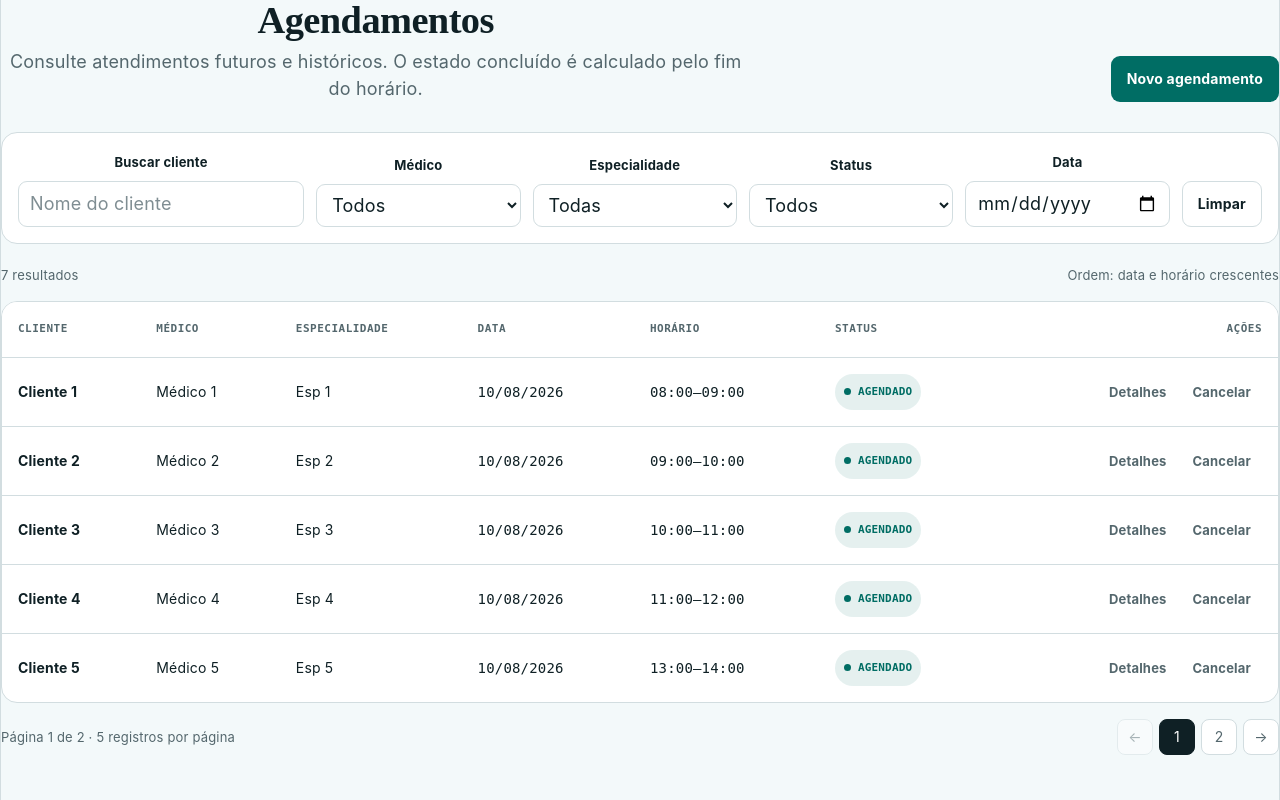
AgendamentosPage — cancelamento (FE3) › fluxo MEDICO: abre modal, seleciona origem, confirma → fecha modal, toast com msg correta
Expected: the text "Cliente 1" is shown, top-left (18, 382), bottom-right (77, 400)
Step 1. Click the button "Cancelar" in the row of "Cliente 1" → x=1222, y=392, box top-left (1182, 372), bottom-right (1262, 412)
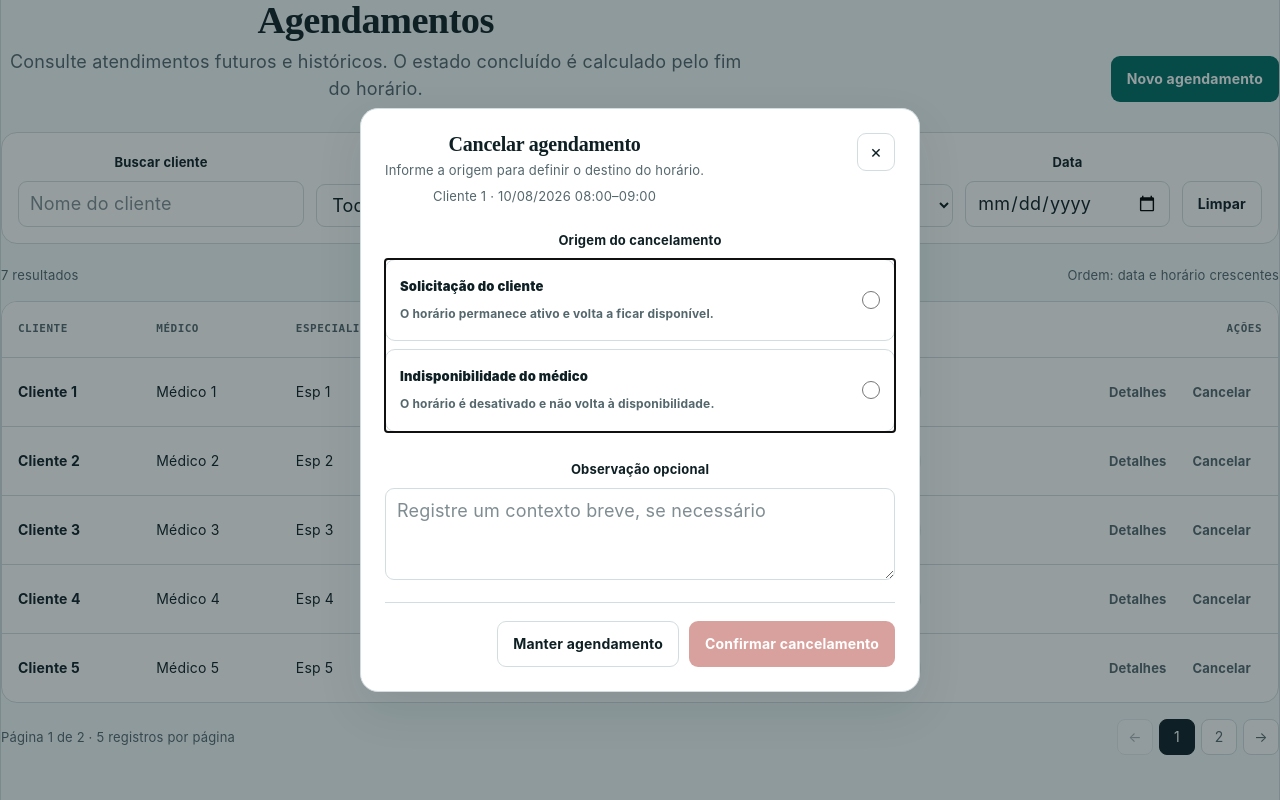
Step 2. Click the radio button labelled "Indisponibilidade do médico" → x=871, y=390, box top-left (862, 381), bottom-right (880, 399)
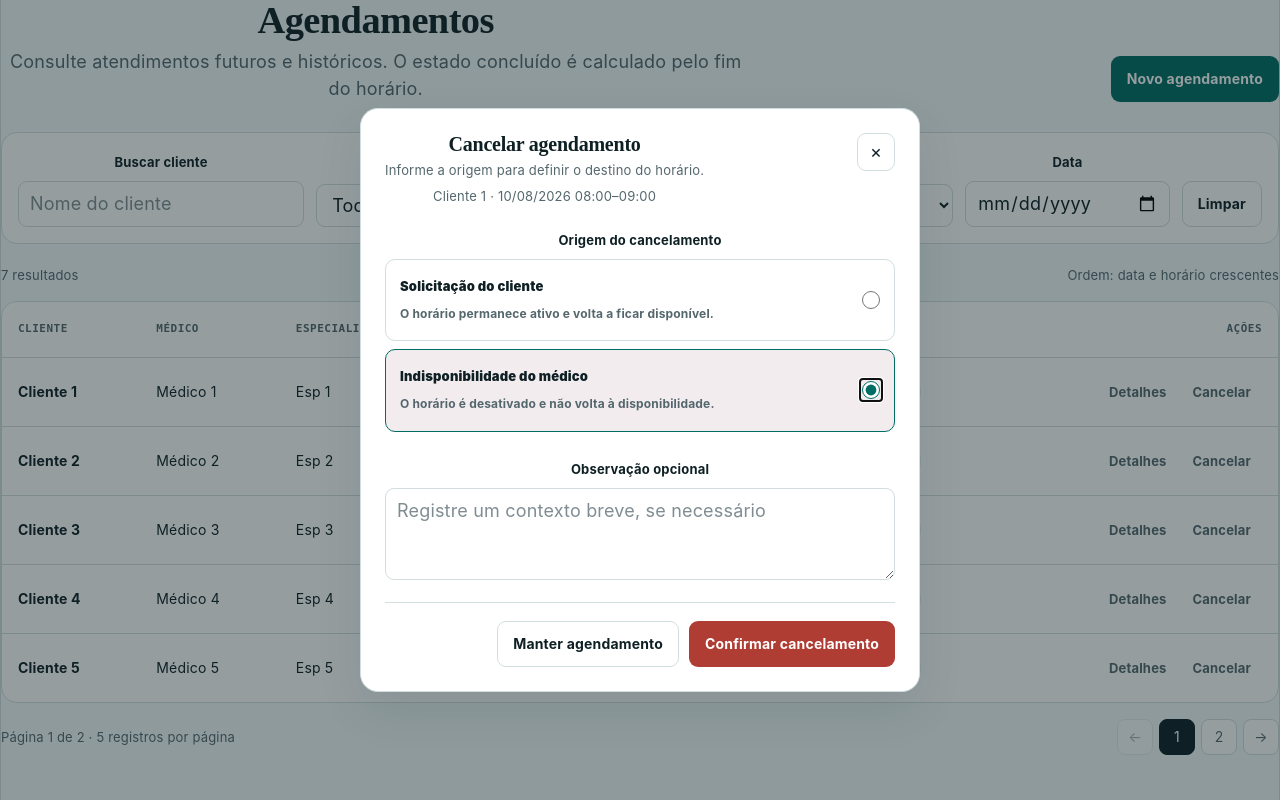
Step 3. Click the button "Confirmar cancelamento" → x=792, y=644, box top-left (689, 621), bottom-right (895, 667)
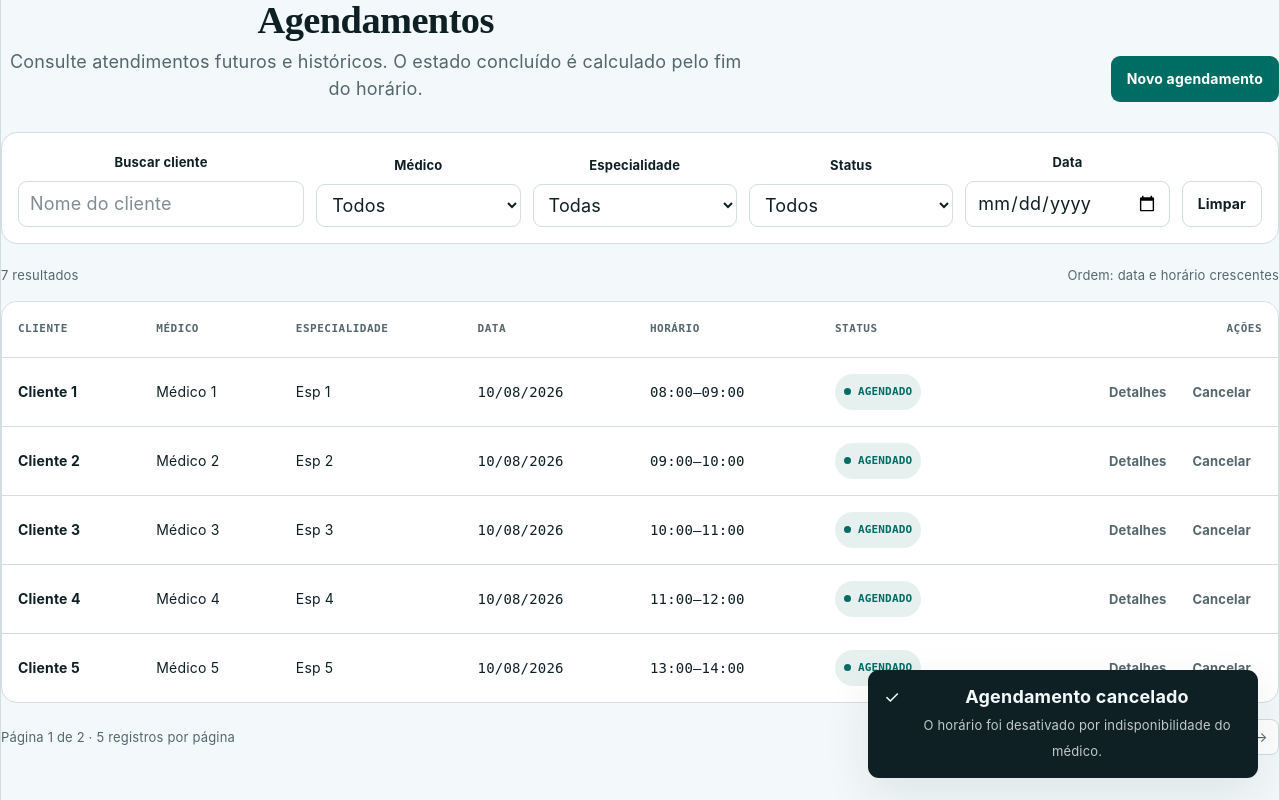
Result: the text "Agendamento cancelado" is shown at top-left (965, 686), bottom-right (1189, 707)
Result: the text "O horário foi desativado por indisponibilidade do médico." is shown at top-left (912, 712), bottom-right (1242, 764)
